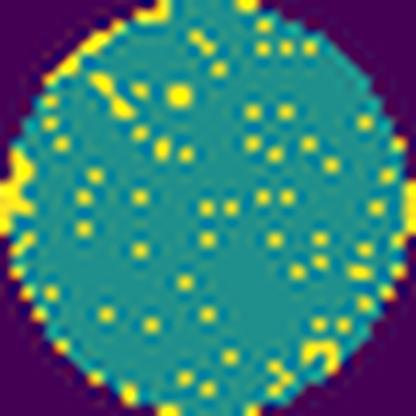Edge-Loc: (0, 141, 41, 239)
